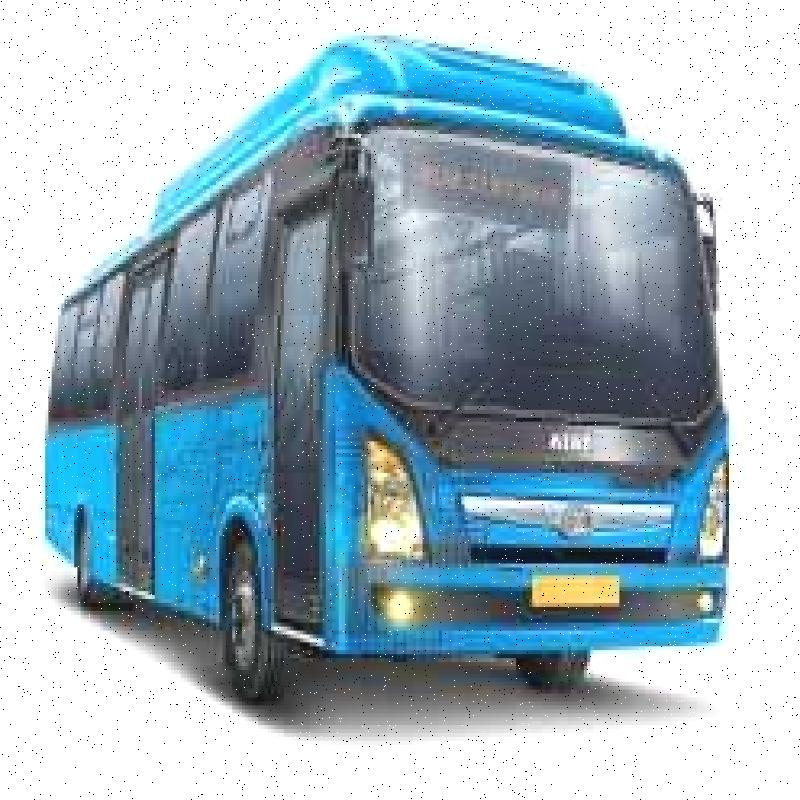bus: (18, 17, 739, 733)
